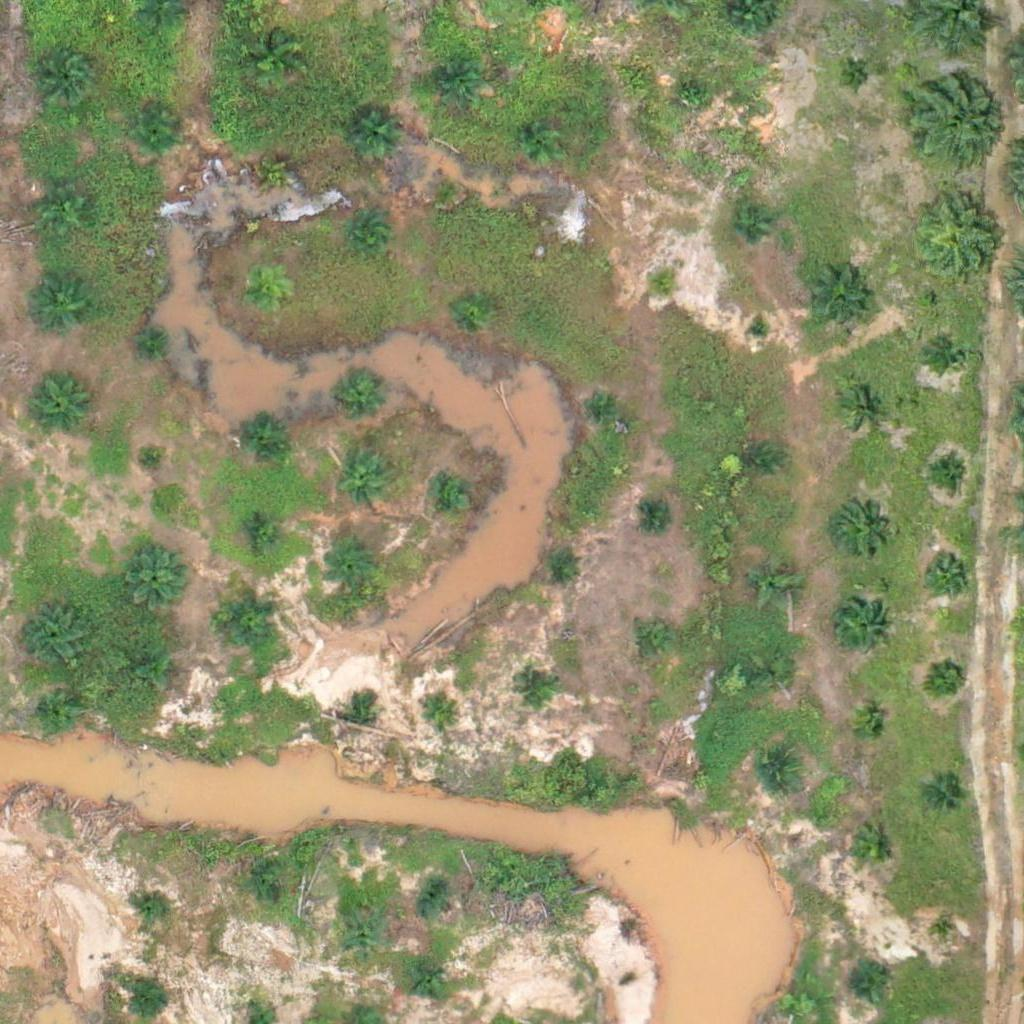Kelapa_Sawit: (904, 68, 1004, 169), (909, 189, 1009, 290), (24, 262, 99, 338), (804, 270, 867, 333), (37, 44, 100, 107), (29, 374, 92, 436), (121, 541, 184, 603), (831, 597, 893, 660), (27, 600, 89, 663), (222, 592, 284, 654), (248, 33, 298, 84), (345, 113, 395, 164), (240, 270, 290, 321), (335, 371, 385, 422), (834, 500, 884, 551), (847, 824, 897, 875), (750, 557, 800, 608), (253, 142, 303, 193), (40, 193, 90, 243), (233, 410, 283, 460), (340, 455, 390, 505), (326, 541, 376, 591), (923, 547, 973, 597), (429, 58, 479, 108), (33, 684, 83, 734), (121, 647, 171, 697), (847, 965, 885, 1003), (740, 442, 778, 480), (134, 323, 172, 361), (523, 121, 561, 159), (675, 77, 713, 115), (837, 58, 875, 96), (643, 267, 681, 305), (245, 512, 283, 550), (934, 336, 972, 374), (134, 887, 172, 925), (414, 956, 452, 994), (413, 881, 451, 919), (138, 110, 176, 147), (433, 479, 470, 517), (850, 709, 888, 746), (928, 453, 965, 491), (846, 386, 883, 424), (640, 497, 678, 534), (516, 672, 553, 710), (757, 655, 795, 692), (930, 657, 967, 695), (727, 206, 764, 244), (424, 167, 461, 205), (135, 437, 172, 475), (420, 696, 457, 734), (124, 982, 162, 1019), (257, 881, 294, 919), (342, 918, 379, 956), (350, 217, 387, 254), (926, 781, 963, 818), (758, 753, 795, 790), (538, 545, 575, 582), (635, 623, 672, 660), (455, 290, 492, 327), (586, 388, 623, 425), (343, 702, 368, 728), (932, 920, 957, 945), (746, 316, 771, 341)
